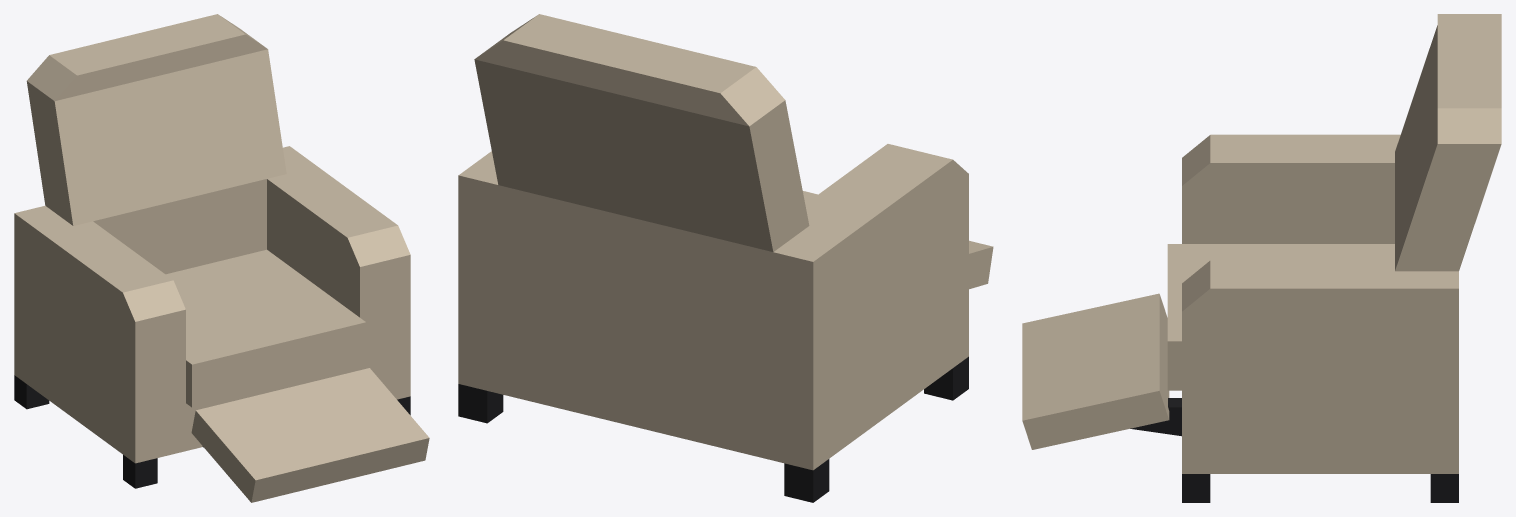
File: pk_recl_beige.glb
3 renders of one model, left to right at view 1: azimuth 30°, elevation 25°; view 2: azimuth 150°, elevation 25°; view 3: azimuth 270°, elevation 25°, orthographic. The views are drawn at different scales.
Parts seen in each view (by area): view 1: pk_recl_beige; view 2: pk_recl_beige; view 3: pk_recl_beige.
Boxes of the visible parts, x1,y1,x2,y2 form: pk_recl_beige: (14, 14, 429, 502); pk_recl_beige: (458, 14, 993, 502); pk_recl_beige: (1022, 14, 1501, 502).
Size of the model in its own units: 0.95 by 1.05 by 1.25.
1 material, 1 textured.
